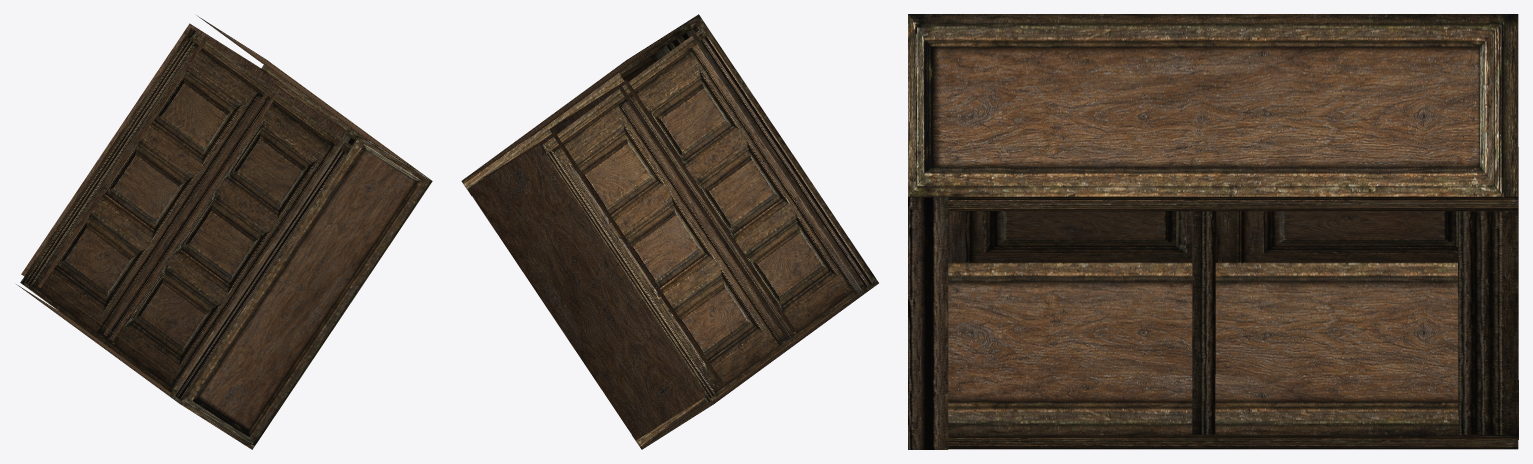
The model's file is mm9_deco_weaponscabinet02tip.glb.
3 renders of one model, left to right at view 1: azimuth 30°, elevation 25°; view 2: azimuth 150°, elevation 25°; view 3: azimuth 270°, elevation 25°, orthographic. The views are drawn at different scales.
Visible parts, largest first — view 1: Weaponscabinet02tip; view 2: Weaponscabinet02tip; view 3: Weaponscabinet02tip.
Part boxes in pixels (x1,y1,x2,y2): Weaponscabinet02tip: (16, 15, 432, 449); Weaponscabinet02tip: (461, 14, 878, 449); Weaponscabinet02tip: (908, 14, 1518, 449).
Size of the model in its own units: 2.62 by 2.86 by 2.97.
1 material, 1 textured.
